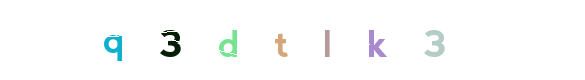3: (132, 0, 212, 80), (343, 0, 423, 80)
D: (179, 0, 259, 80)
K: (335, 0, 415, 80)
L: (253, 0, 333, 80)
Q: (74, 0, 154, 80)
T: (245, 0, 325, 80)
